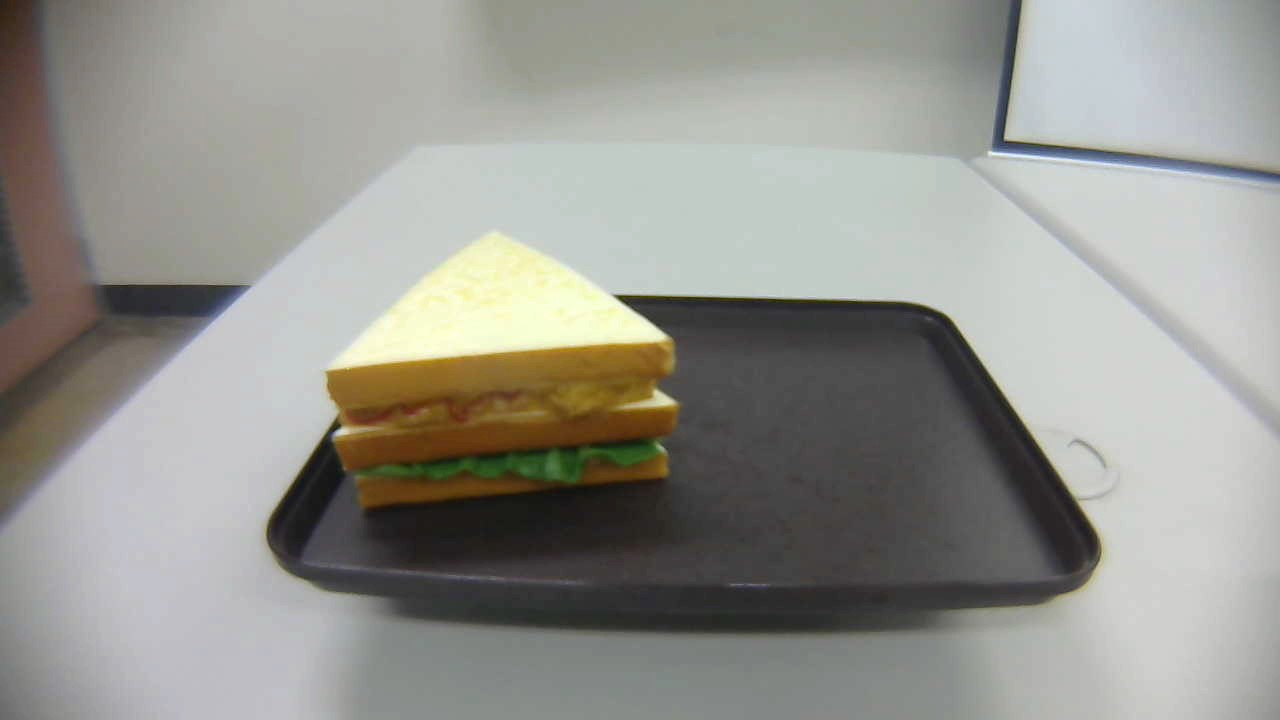sandwich: (325, 227, 682, 512)
